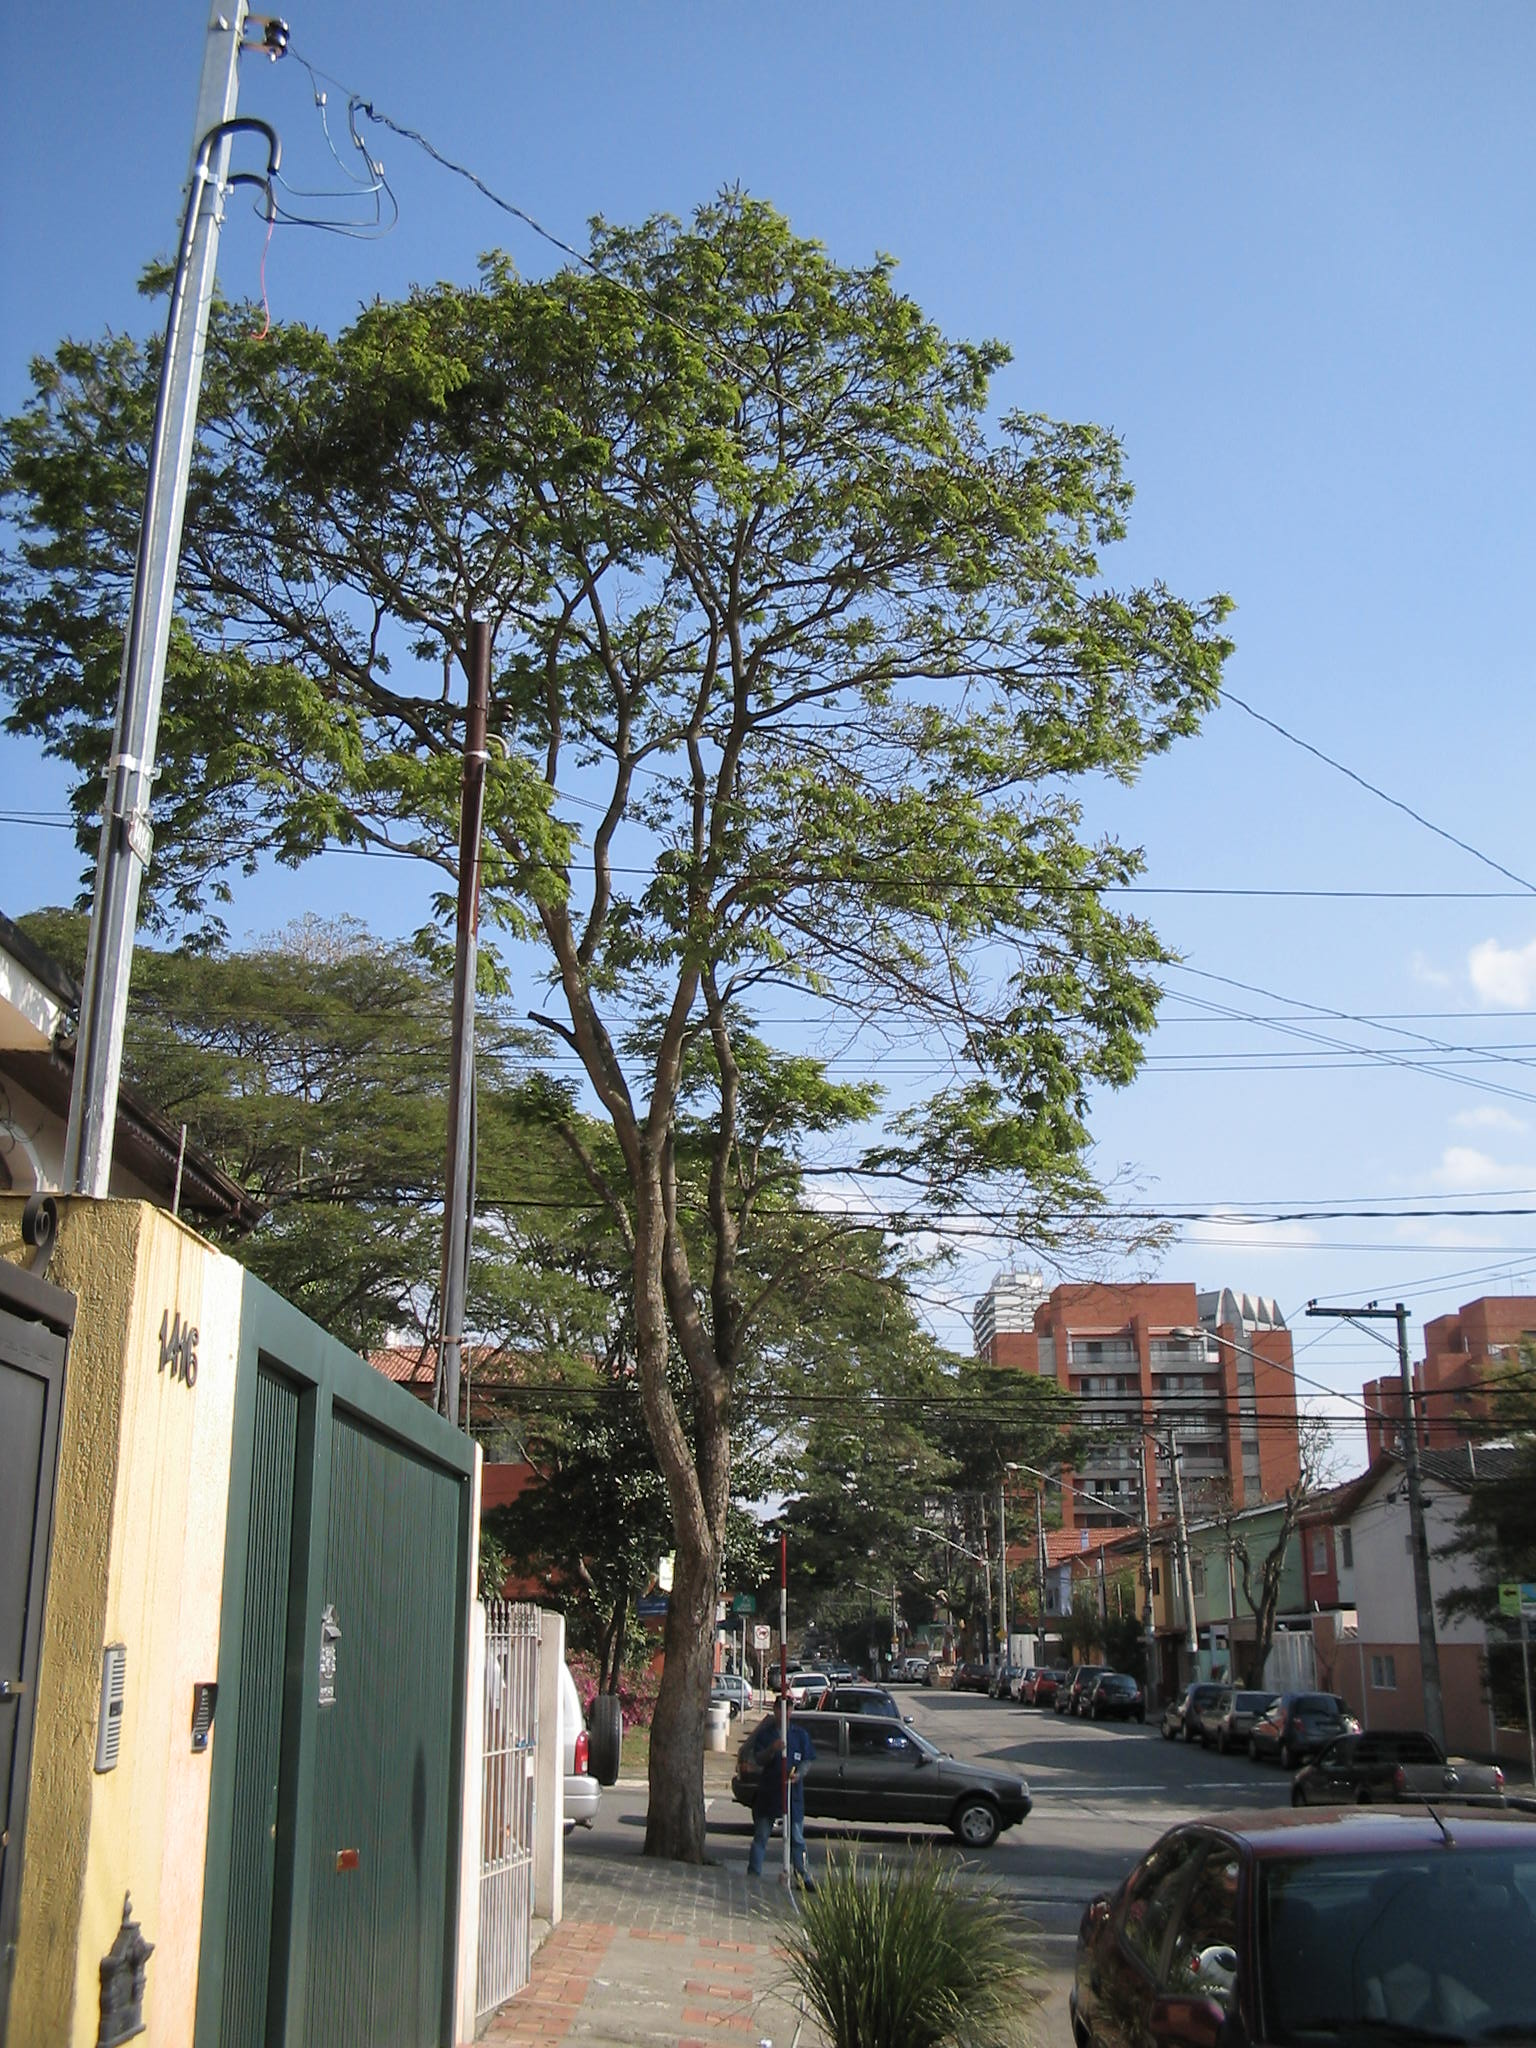crown: (15, 187, 1242, 1297)
stem: (624, 1571, 745, 1853)
stick: (744, 1537, 824, 1874)
tree: (6, 182, 1249, 1863)
